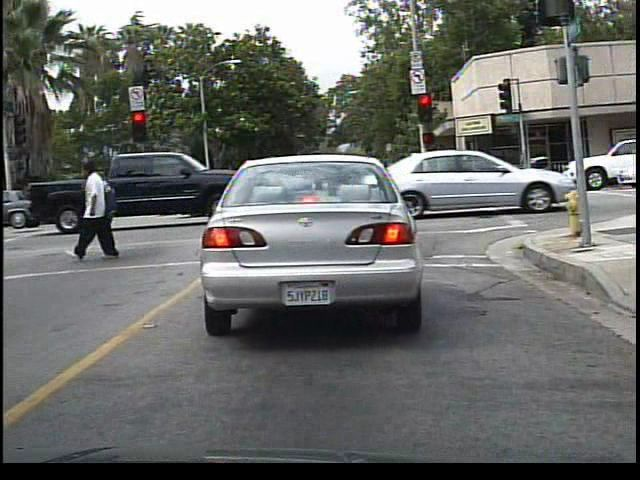person: (74, 156, 126, 257)
